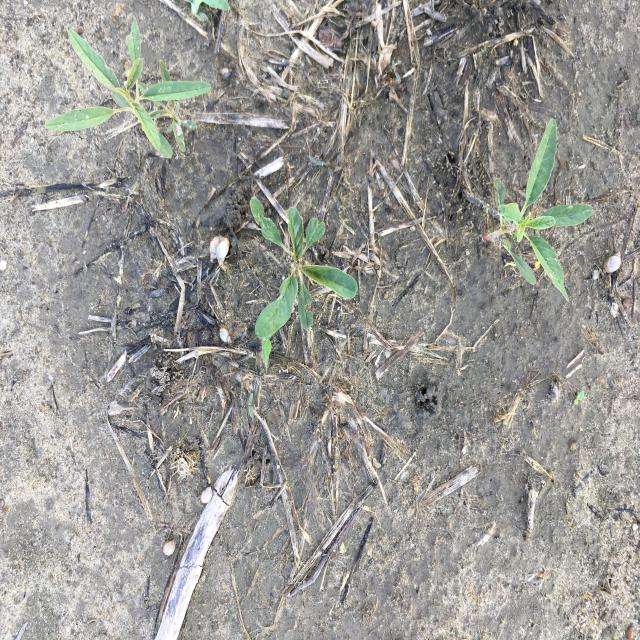Waterhemp: (42, 15, 212, 160), (492, 117, 595, 304), (250, 195, 358, 342)
